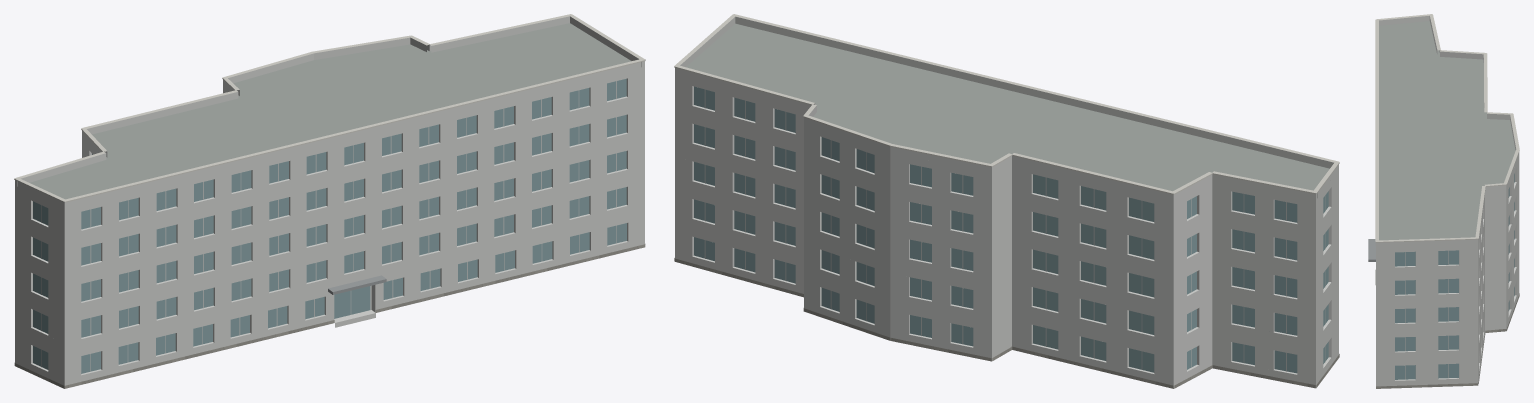
3 renders of one model, left to right at view 1: azimuth 30°, elevation 25°; view 2: azimuth 150°, elevation 25°; view 3: azimuth 270°, elevation 25°, orthographic. The views are drawn at different scales.
Visible parts, largest first — view 1: cheongun1f__wall, cheongun1f__roof, cheongun1f__glass, cheongun1f__parapet, cheongun1f__trim, cheongun1f__base, cheongun1f__frame; view 2: cheongun1f__wall, cheongun1f__roof, cheongun1f__glass, cheongun1f__parapet, cheongun1f__trim, cheongun1f__base, cheongun1f__frame; view 3: cheongun1f__roof, cheongun1f__wall, cheongun1f__glass, cheongun1f__trim, cheongun1f__parapet, cheongun1f__base, cheongun1f__canopy, cheongun1f__frame.
Part boxes in pixels (x1,y1,x2,y2): cheongun1f__wall: (15, 66, 644, 388); cheongun1f__roof: (30, 23, 631, 199); cheongun1f__glass: (33, 78, 626, 373); cheongun1f__parapet: (15, 16, 644, 208); cheongun1f__trim: (14, 14, 645, 202); cheongun1f__base: (14, 244, 645, 388); cheongun1f__frame: (41, 81, 616, 371); cheongun1f__wall: (675, 73, 1338, 388); cheongun1f__roof: (686, 23, 1329, 191); cheongun1f__glass: (694, 86, 1328, 373); cheongun1f__parapet: (675, 16, 1338, 200); cheongun1f__trim: (674, 14, 1339, 194); cheongun1f__base: (674, 258, 1339, 388); cheongun1f__frame: (704, 89, 1325, 371); cheongun1f__roof: (1379, 21, 1515, 240); cheongun1f__wall: (1376, 155, 1519, 386); cheongun1f__glass: (1395, 173, 1514, 379); cheongun1f__trim: (1375, 14, 1519, 242); cheongun1f__parapet: (1375, 15, 1519, 246); cheongun1f__base: (1376, 293, 1519, 388); cheongun1f__canopy: (1368, 239, 1375, 261); cheongun1f__frame: (1405, 250, 1448, 379).
Bounding box in the file's own units: 55.23 × 17 × 15.52.
10 materials, 1 textured.
